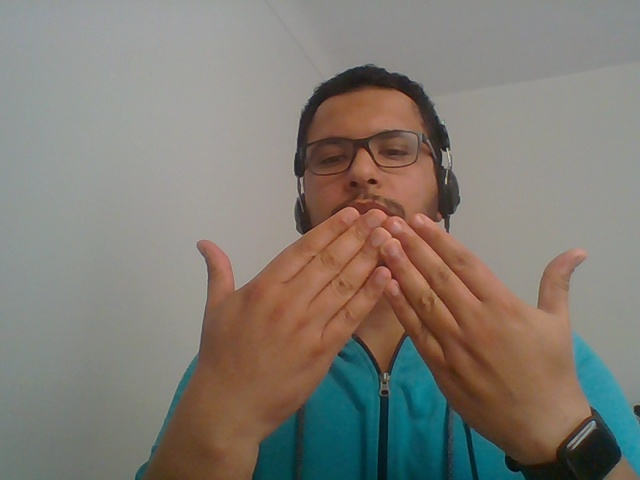thanks: (146, 191, 636, 480)
